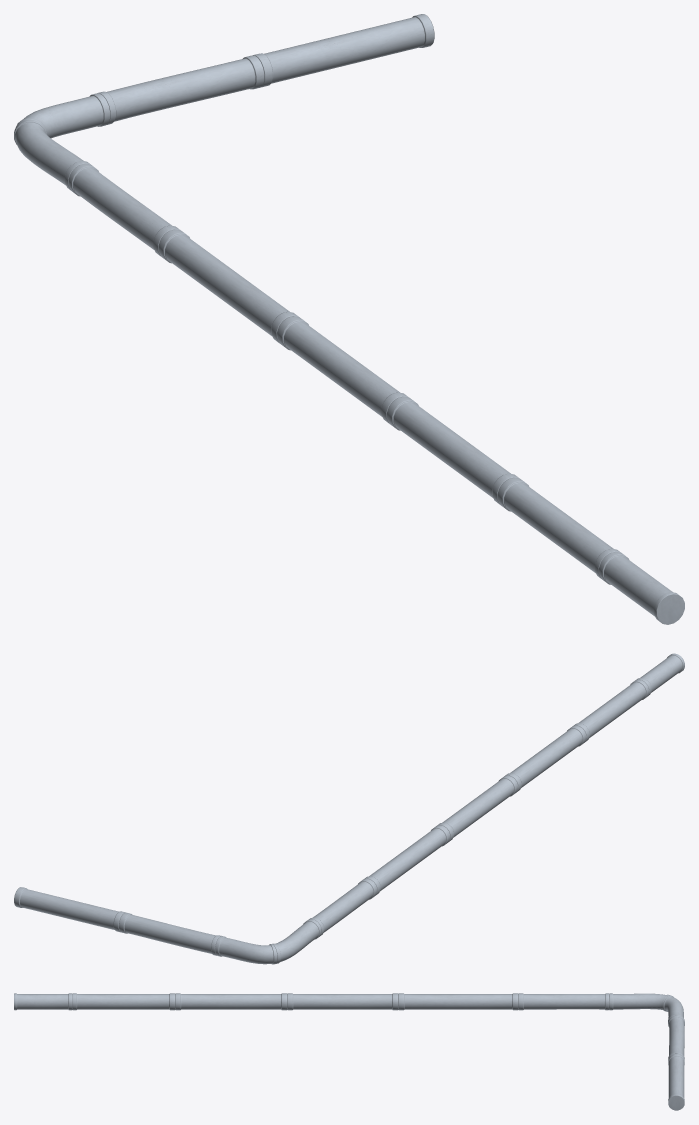
The model's file is SM_Tube_Splines_16.fbx.
3 views of the same model, one above another, from view 1: azimuth 30°, elevation 25°; view 2: azimuth 150°, elevation 25°; view 3: azimuth 270°, elevation 25° (orthographic). The views are drawn at different scales.
Visible parts, largest first — view 1: SM_Tube_Splines_16; view 2: SM_Tube_Splines_16; view 3: SM_Tube_Splines_16.
Part boxes in pixels (<box>): SM_Tube_Splines_16: <box>14,14,684,624</box>; SM_Tube_Splines_16: <box>14,653,684,964</box>; SM_Tube_Splines_16: <box>14,993,684,1110</box>.
Size of the model in its own units: 564 by 1524 by 37.82.
